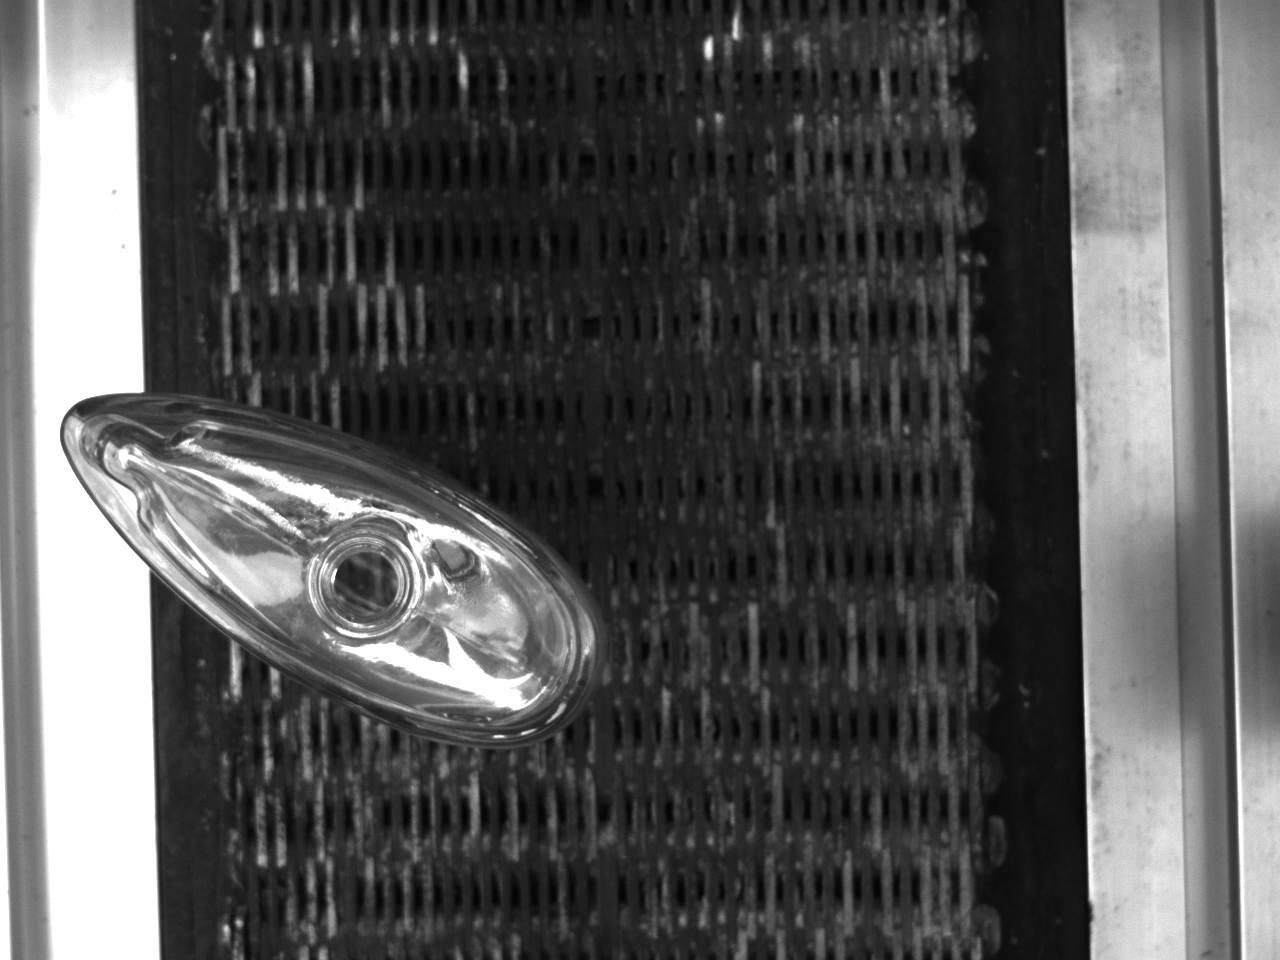bottleneck: (310, 528, 423, 640)
